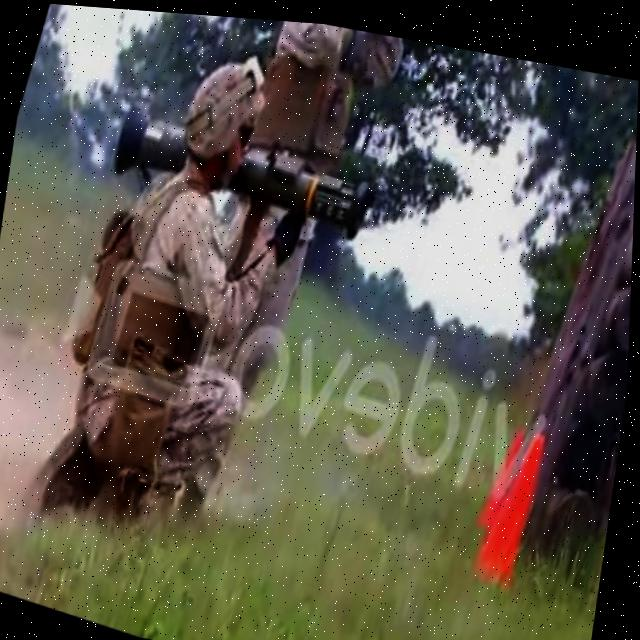rocket: (110, 85, 384, 242)
